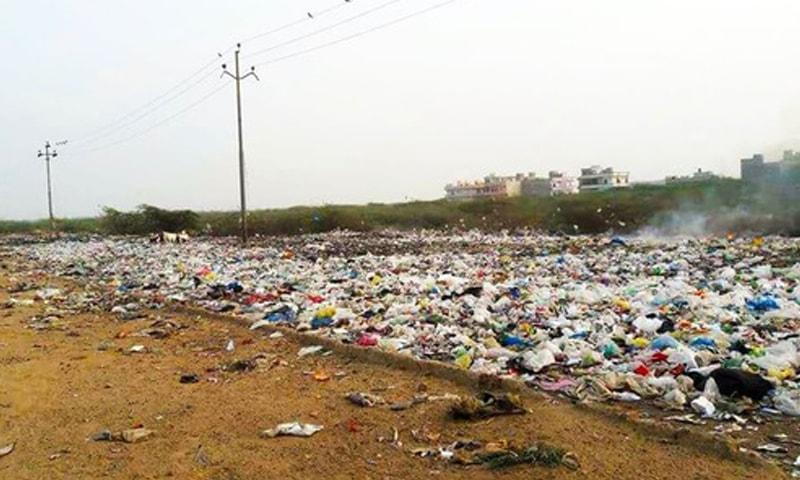garbage: (0, 226, 800, 404)
